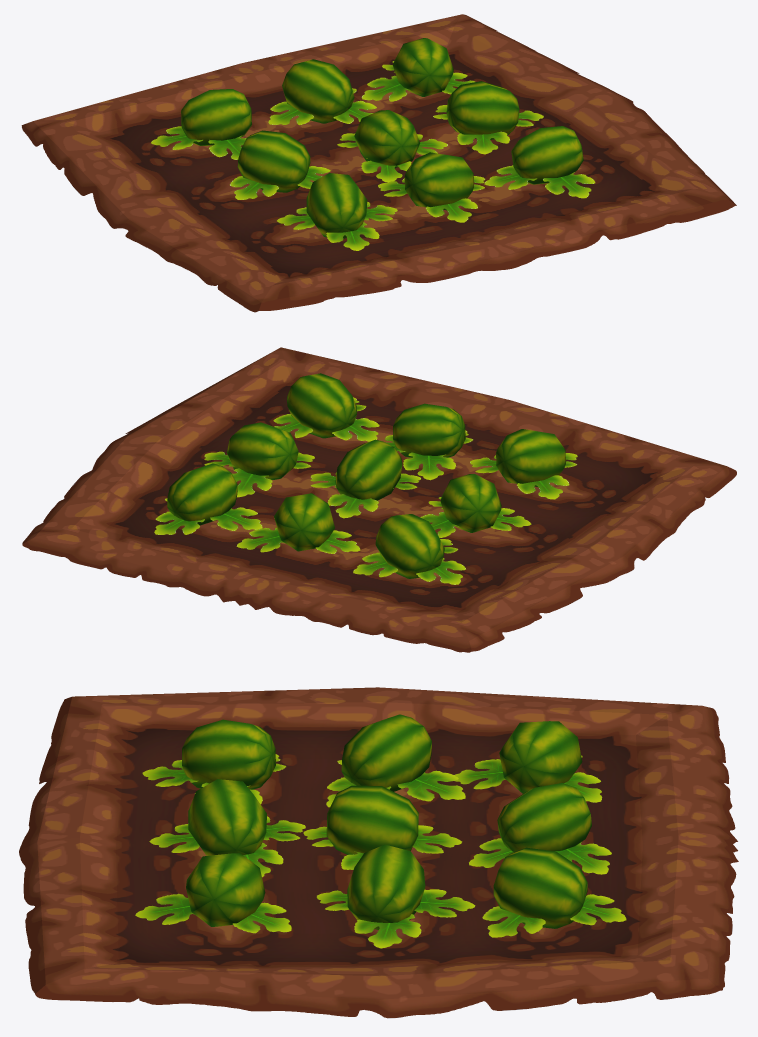
Rendered from Melon_Field1.FBX.
3 renders of one model, top to bottom at view 1: azimuth 30°, elevation 25°; view 2: azimuth 150°, elevation 25°; view 3: azimuth 270°, elevation 25°, orthographic. The views are drawn at different scales.
Parts seen in each view (by area): view 1: Melon_Field1; view 2: Melon_Field1; view 3: Melon_Field1.
Boxes of the visible parts, box(x1,y1,x2,y2) form: Melon_Field1: box(21, 14, 736, 312); Melon_Field1: box(22, 347, 736, 652); Melon_Field1: box(19, 687, 738, 1018).
Size of the model in its own units: 296 by 29.49 by 274.
